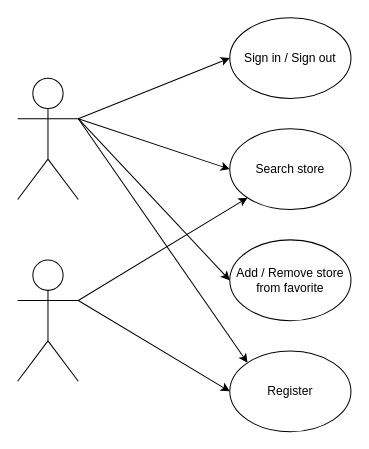
This 369x449 diagram has some shape labels left out. The centre of each missing label's shape, as x and y in pixels:
Guest: point 47,320
User: point 47,138
